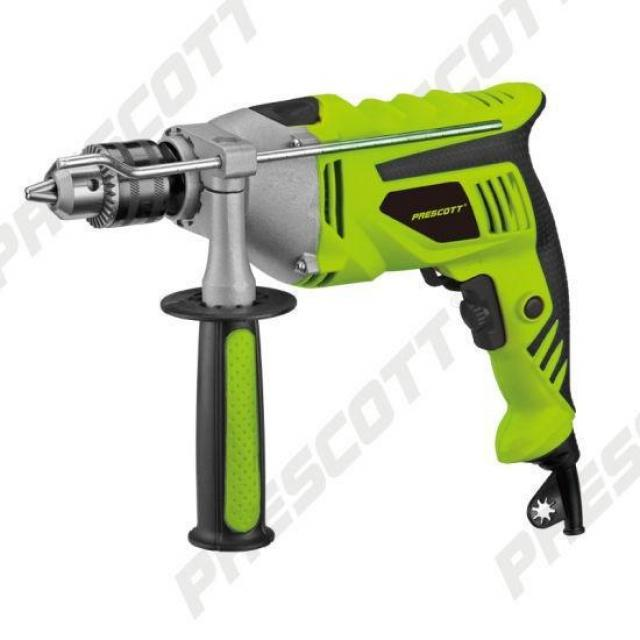drill: (24, 84, 586, 554)
